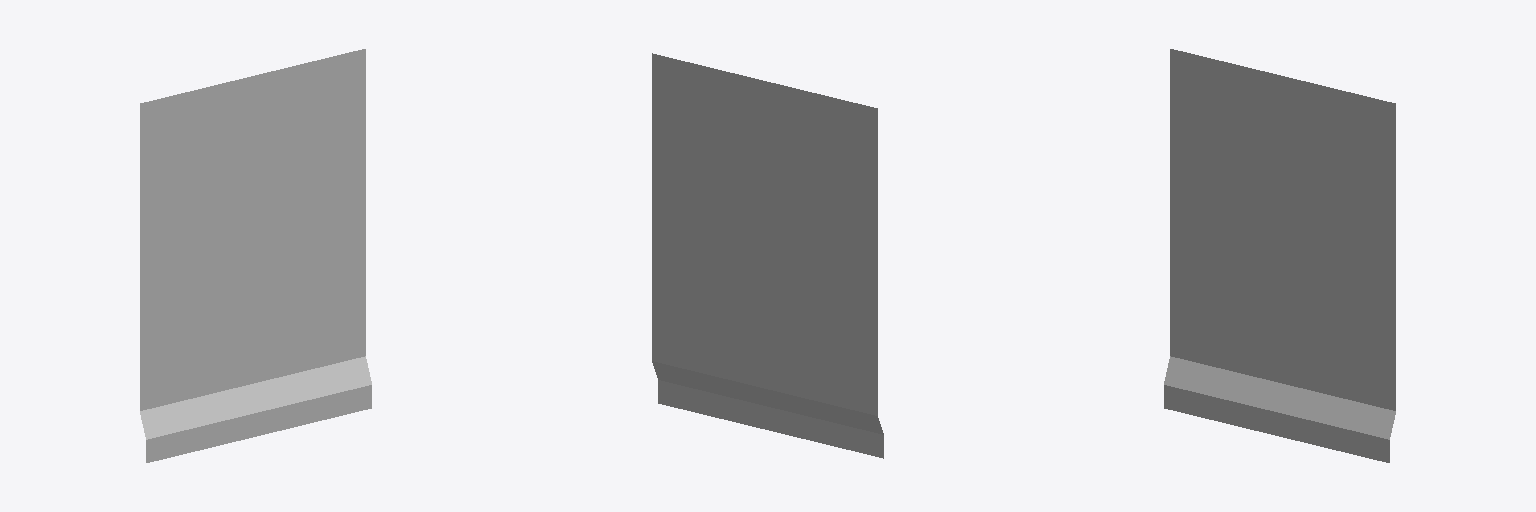
File: WallV3.obj
3 views of the same model, side by side, from view 1: azimuth 30°, elevation 25°; view 2: azimuth 150°, elevation 25°; view 3: azimuth 330°, elevation 25° (orthographic).
Visible parts, largest first — view 1: pPlane35; view 2: pPlane35; view 3: pPlane35.
Boxes of the visible parts, x1,y1,x2,y2 form: pPlane35: [140, 49, 371, 462]; pPlane35: [652, 53, 883, 458]; pPlane35: [1164, 49, 1395, 462].
Size of the model in its own units: 200 by 300 by 10.